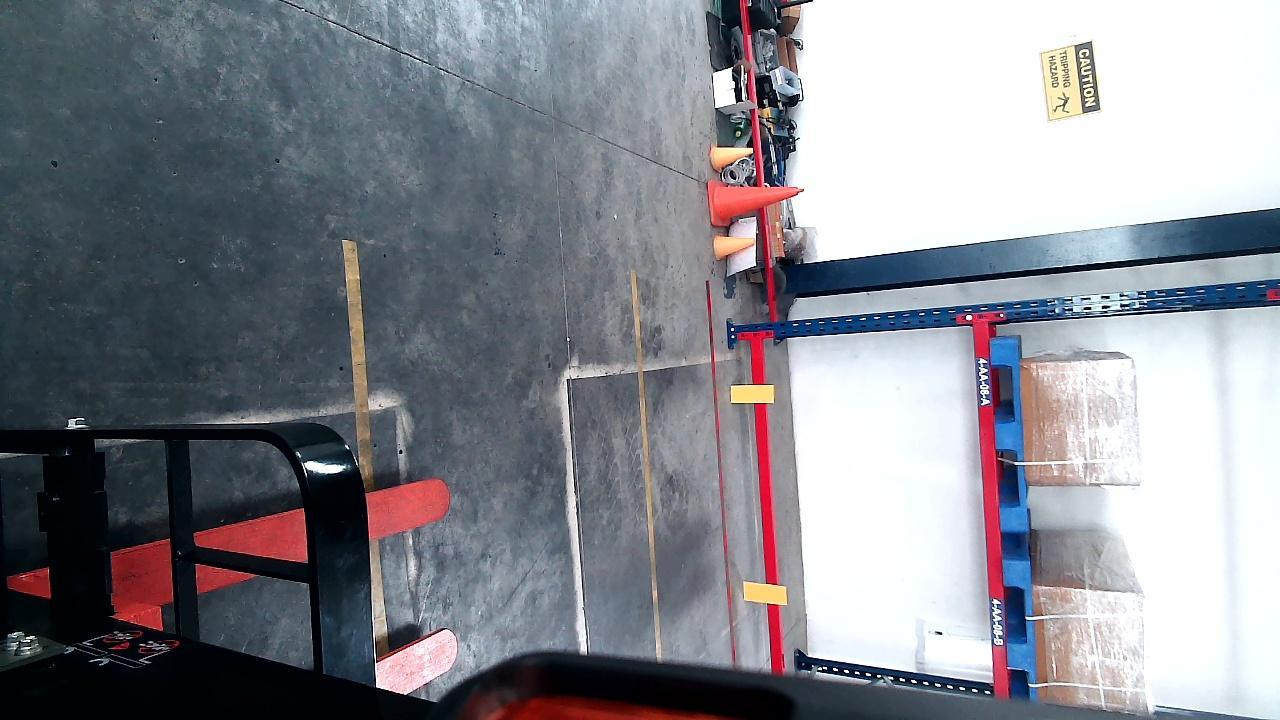red_line: (707, 283, 735, 665)
yellow_line: (633, 272, 665, 659), (346, 238, 371, 464)
